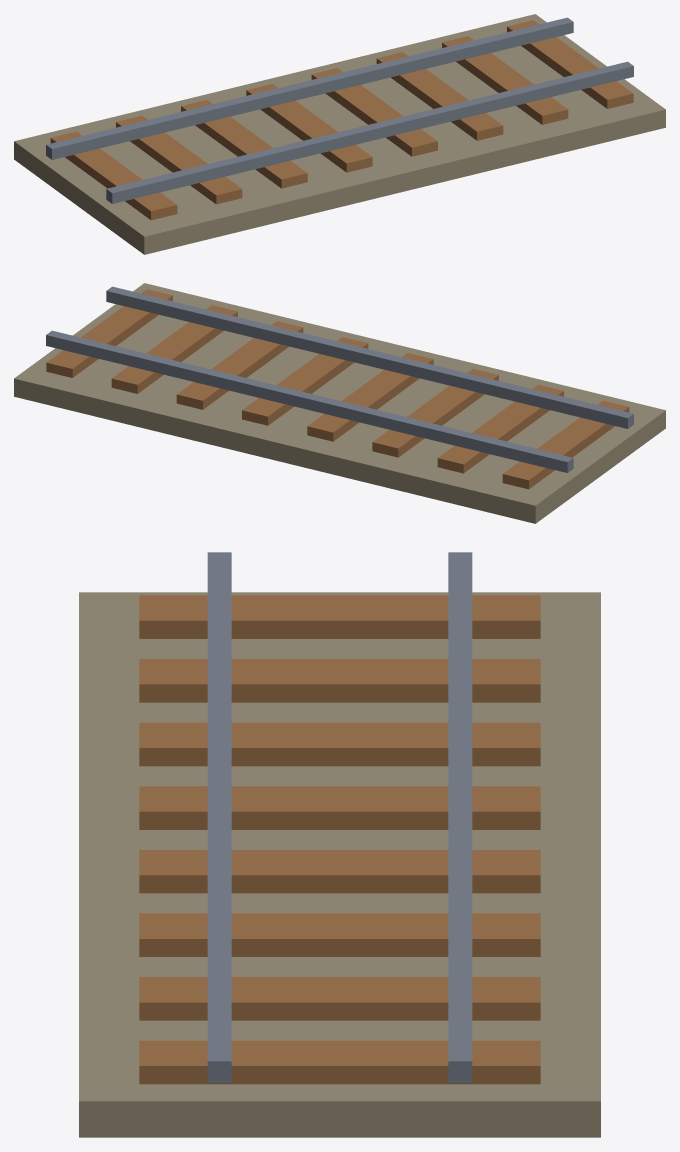
The model's file is rail.glb.
3 renders of one model, top to bottom at view 1: azimuth 30°, elevation 25°; view 2: azimuth 150°, elevation 25°; view 3: azimuth 270°, elevation 25°, orthographic. The views are drawn at different scales.
Visible parts, largest first — view 1: rail; view 2: rail; view 3: rail.
Part boxes in pixels (x1,y1,x2,y2): rail: (14, 14, 665, 254); rail: (14, 283, 665, 523); rail: (79, 552, 600, 1137).
Size of the model in its own units: 6 by 0.42 by 2.6.
